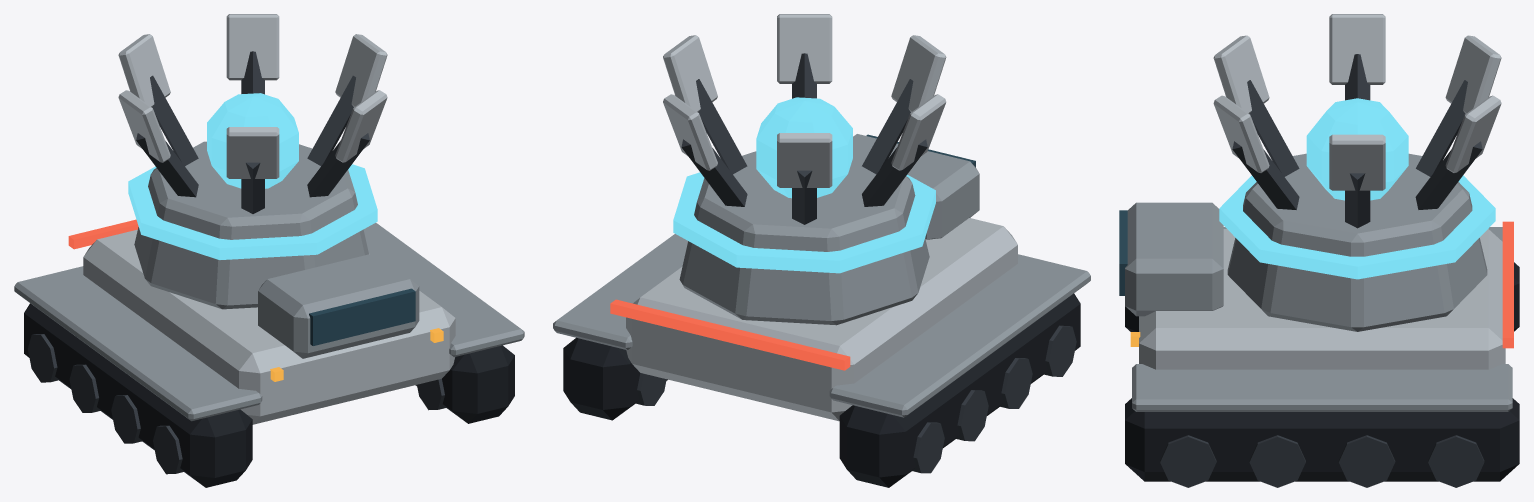
Rendered from exo-aegis.glb.
3 views of the same model, side by side, from view 1: azimuth 30°, elevation 25°; view 2: azimuth 150°, elevation 25°; view 3: azimuth 270°, elevation 25° (orthographic). The views are drawn at different scales.
Parts seen in each view (by area): view 1: body; view 2: body; view 3: body.
Part boxes in pixels (left/top/right/bottom): body: left=14, top=14, right=524, bottom=487; body: left=553, top=14, right=1090, bottom=487; body: left=1119, top=14, right=1519, bottom=487.
Bounding box in the file's own units: 2.95 × 2.59 × 2.84.
